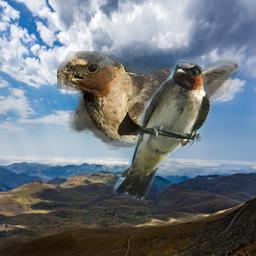Swallow: (57, 51, 240, 150), (112, 59, 211, 200)
